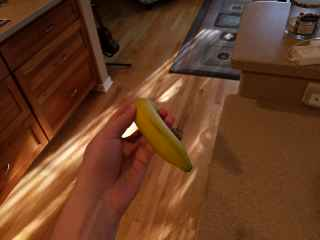banana: (117, 89, 199, 180)
